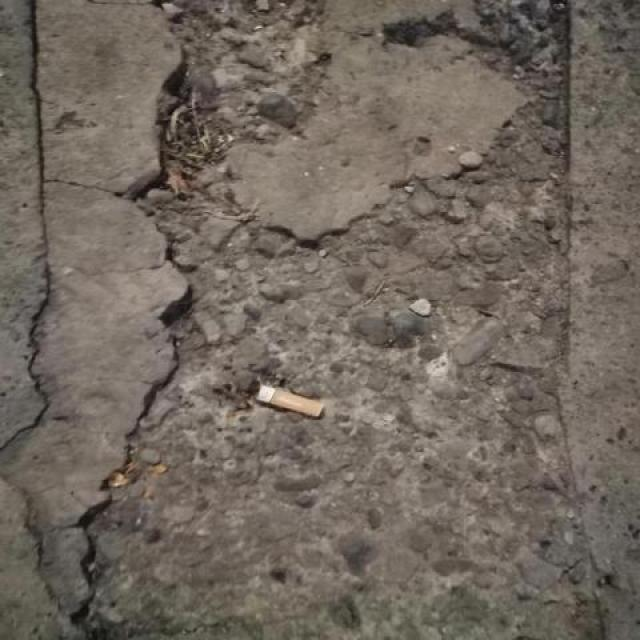non-organic waste: (253, 380, 331, 428)
